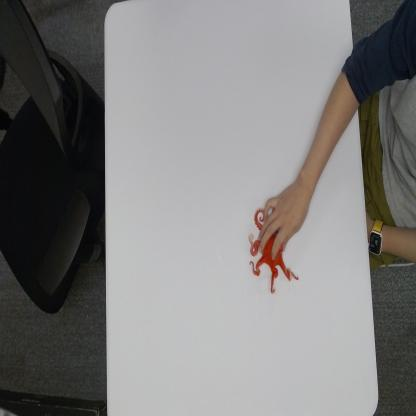Arm: (305, 39, 358, 190)
Hand: (259, 178, 313, 259)
Octopus: (248, 206, 302, 296)
